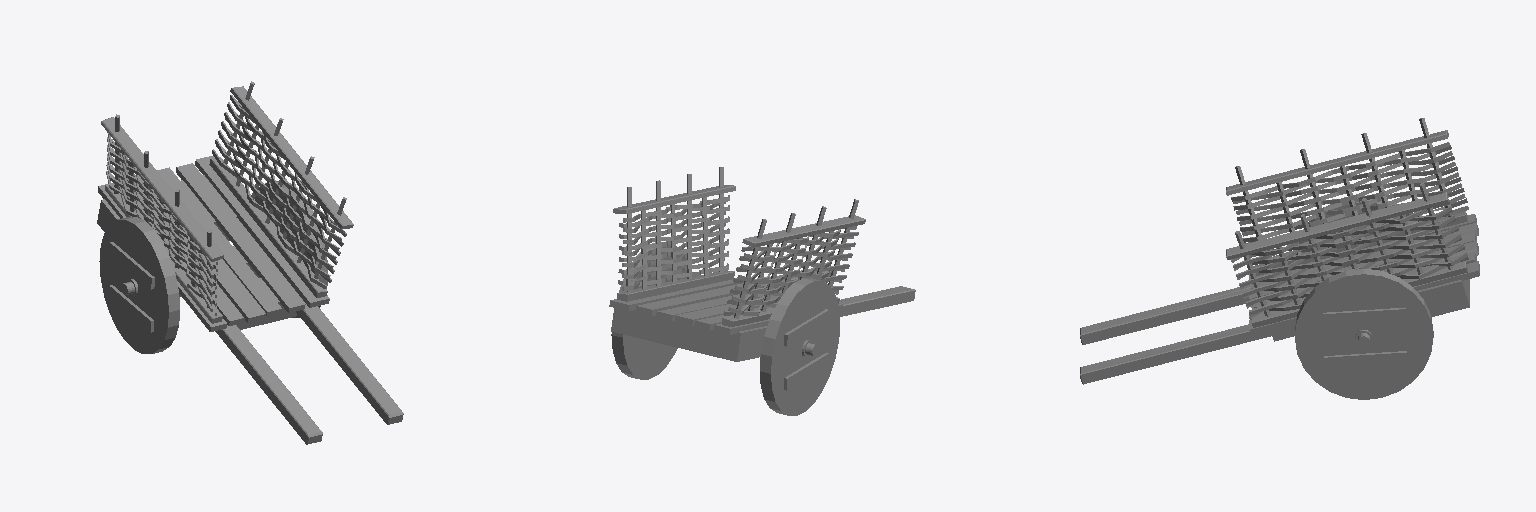
The model's file is Wooden_Cart_1.obj.
The picture shows the model from 3 angles: view 1: azimuth 30°, elevation 25°; view 2: azimuth 150°, elevation 25°; view 3: azimuth 270°, elevation 25°; orthographic projection.
Parts seen in each view (by area): view 1: wagen1_Lp_; view 2: wagen1_Lp_; view 3: wagen1_Lp_.
Part boxes in pixels (bbox=[...]): wagen1_Lp_: bbox=[97, 81, 403, 444]; wagen1_Lp_: bbox=[609, 167, 915, 415]; wagen1_Lp_: bbox=[1080, 118, 1479, 399].
Bounding box in the file's own units: 2.67 × 3 × 5.18.